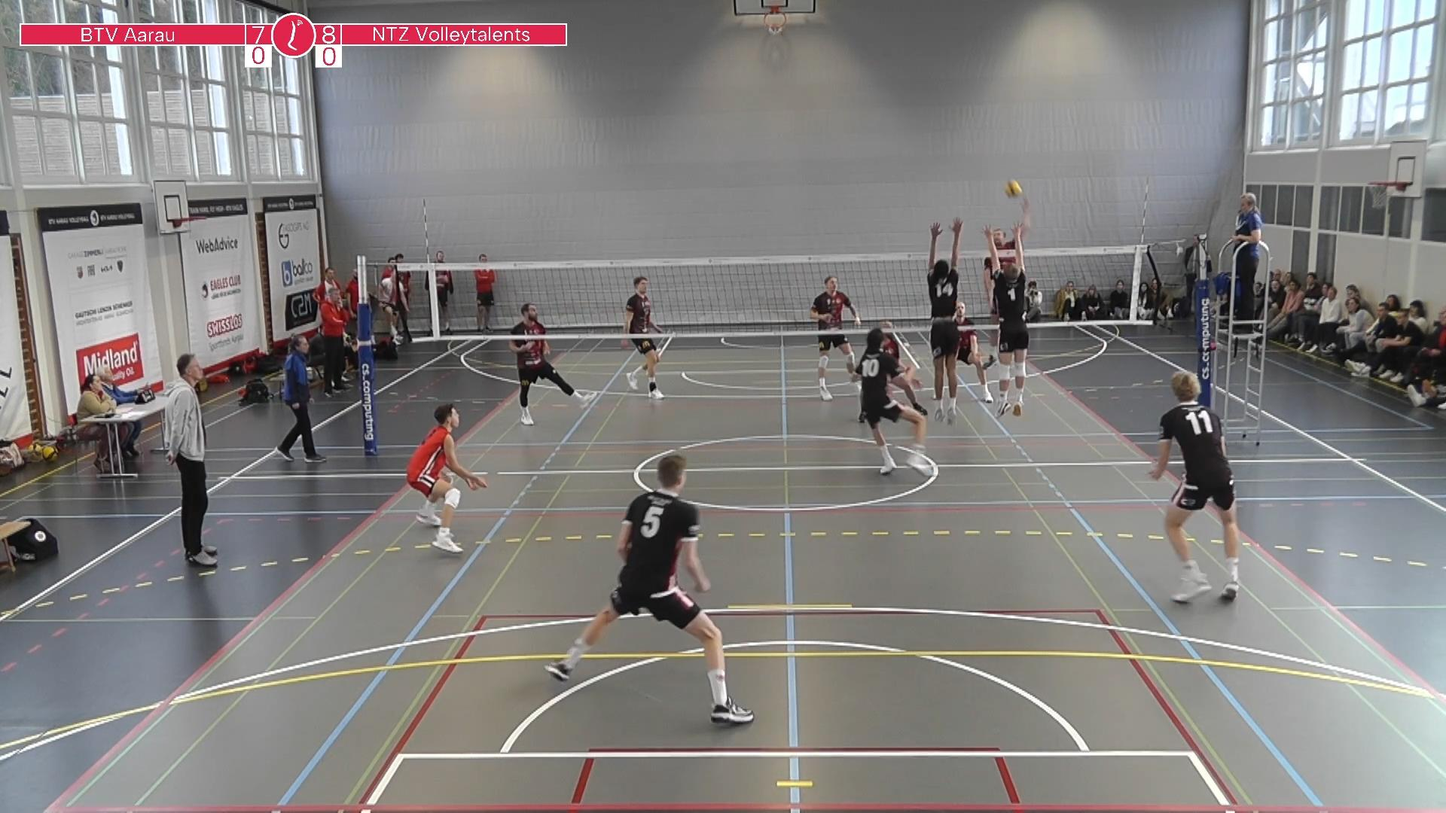Attack: (990, 199, 1032, 267)
Block: (984, 216, 1035, 420), (923, 215, 966, 429)
Player: (545, 454, 753, 723), (1150, 371, 1239, 602), (849, 328, 931, 475), (407, 404, 487, 553), (509, 303, 596, 425), (810, 276, 861, 400), (880, 322, 926, 415), (953, 300, 993, 402), (627, 339, 663, 399)
ball: (1002, 169, 1024, 204)
